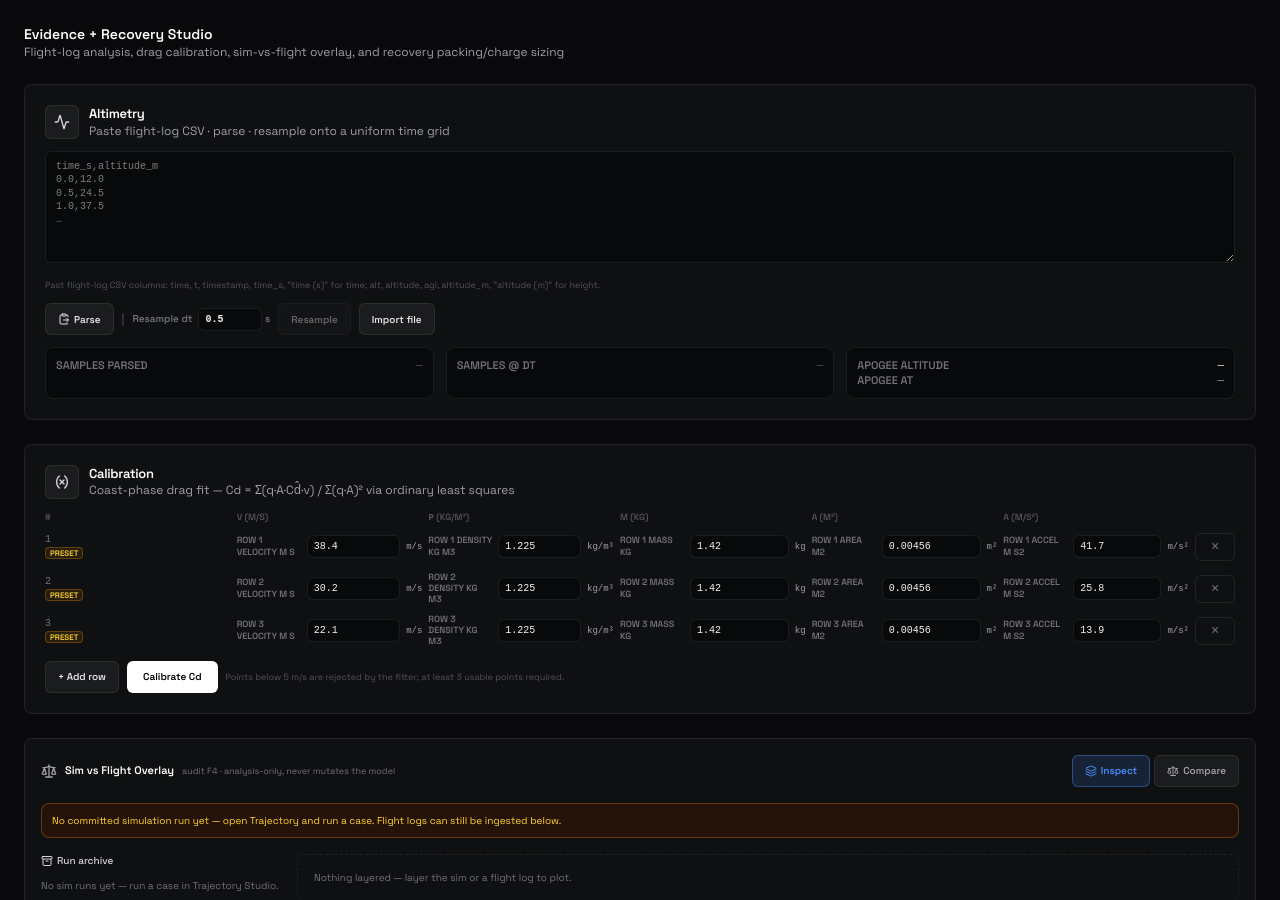
Scenario: EvidenceStudio › surfaces the fitter error when fewer than 3 usable points remain
Replace the text in the number field named "Row 2 velocity m s" with "1.0" at (353, 589), box [307,577,400,600]
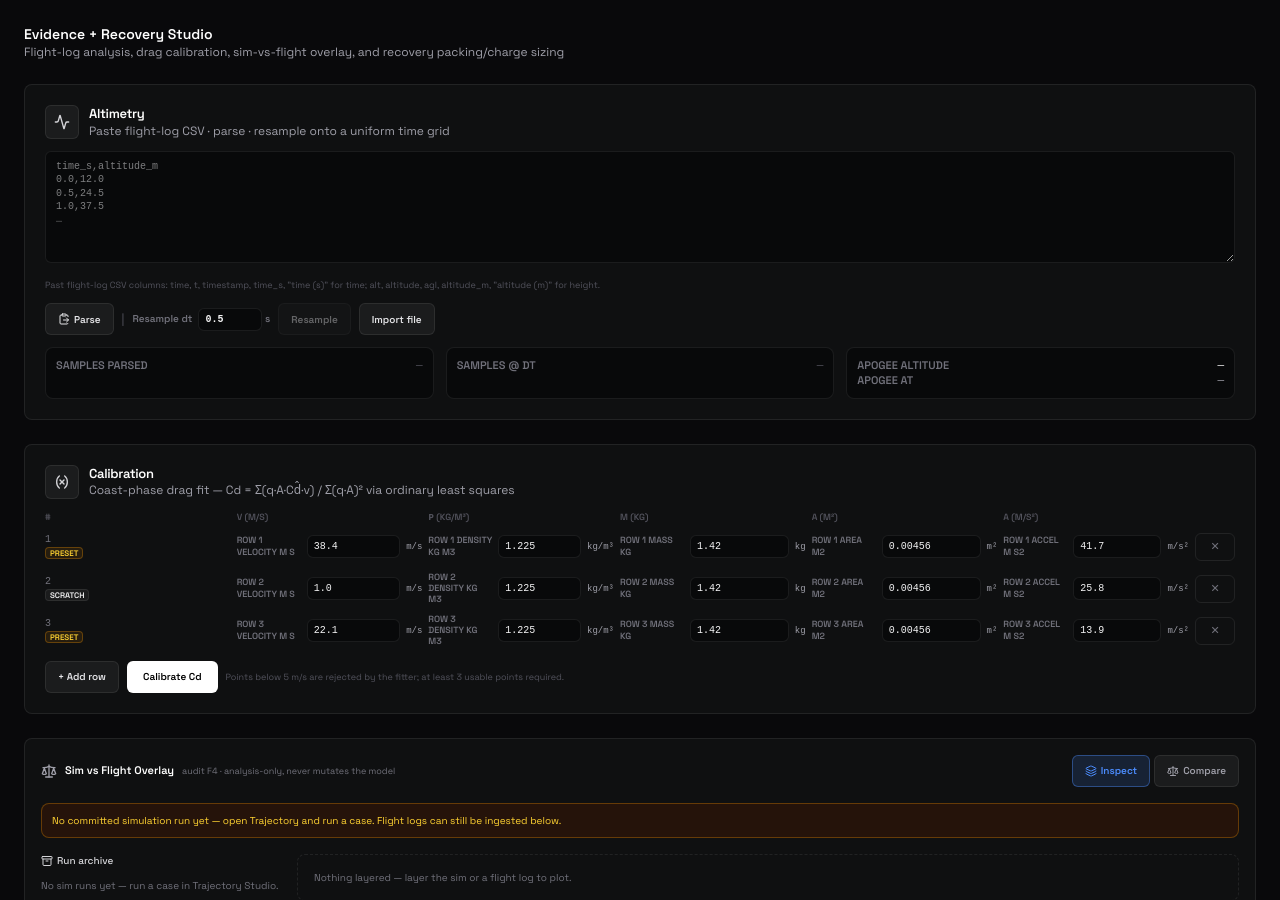
Replace the text in the number field named "Row 1 velocity m s" with "1.0" at (353, 547), box [307,535,400,558]
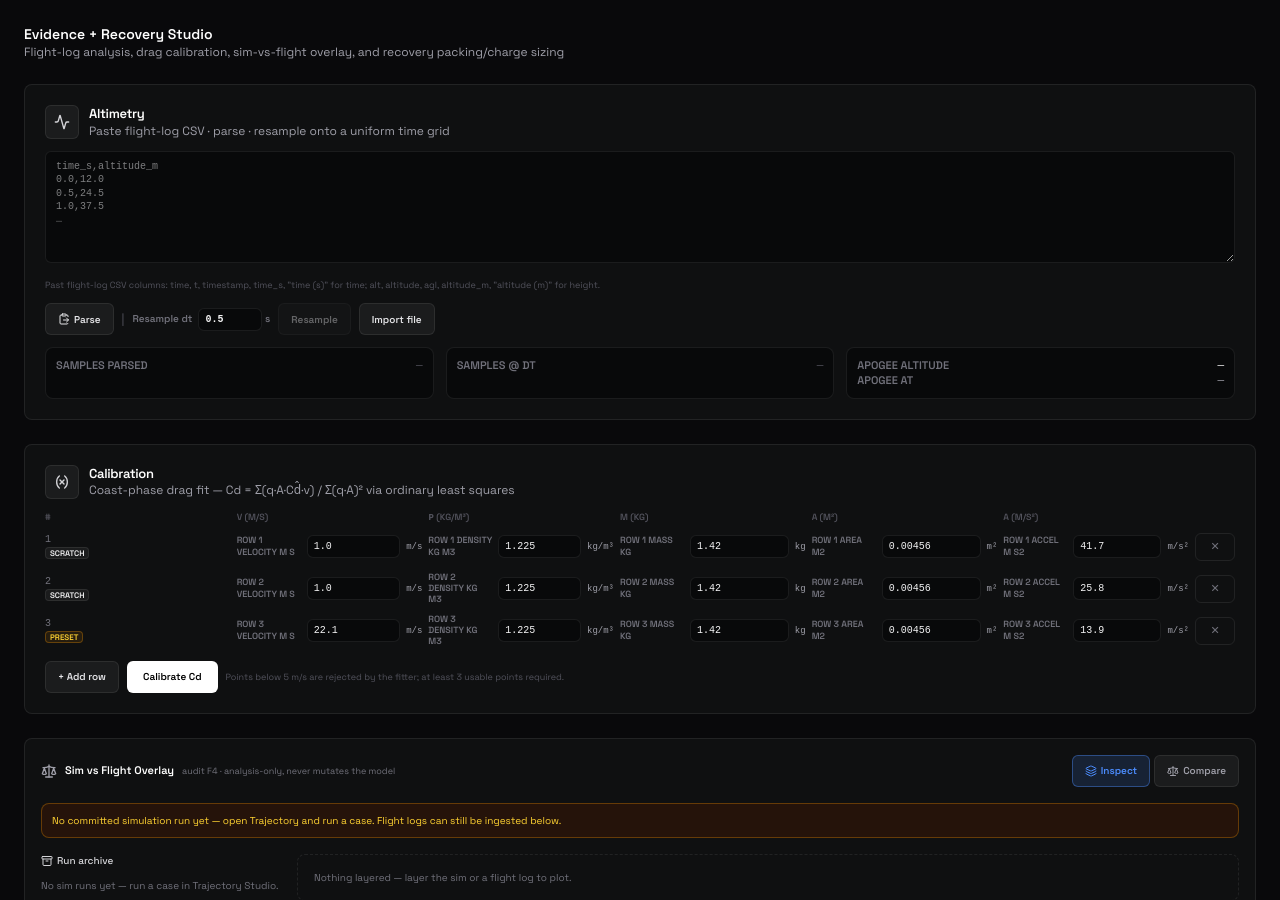
Replace the text in the number field named "Row 3 velocity m s" with "1.0" at (353, 631), box [307,619,400,642]
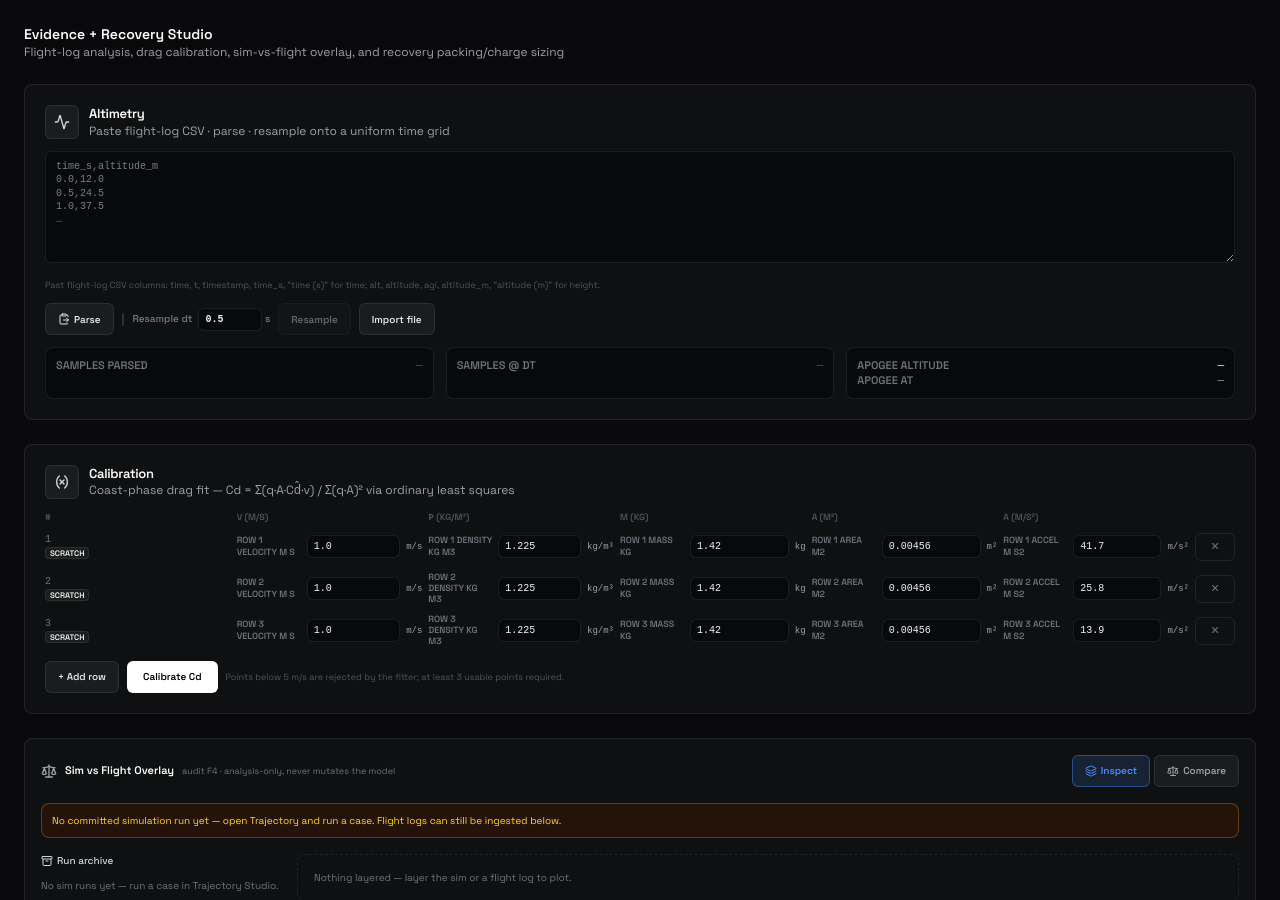
Click the button "Calibrate Cd" at (172, 677), box [127,661,218,693]
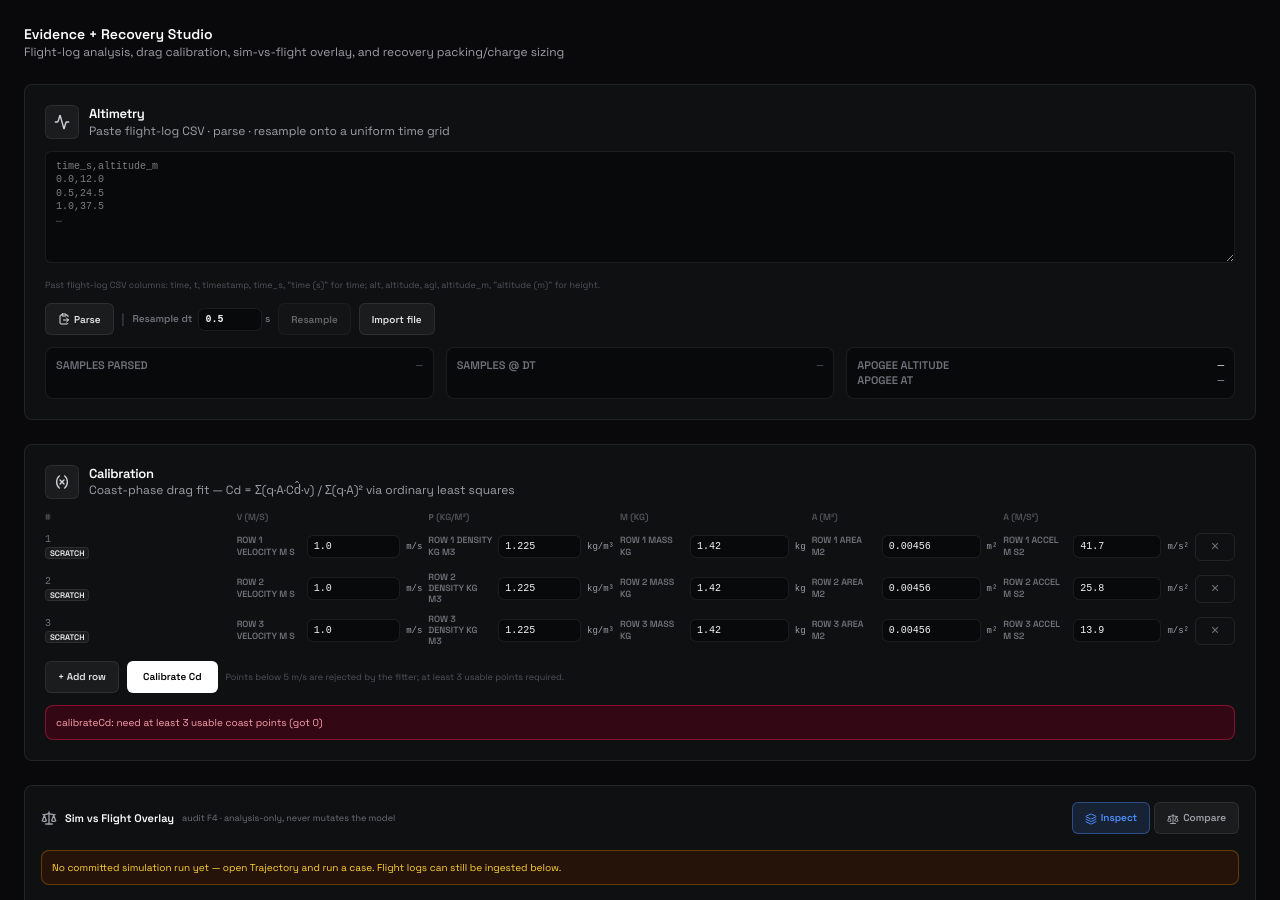
Expected: the text "calibrateCd: need at least 3 usable coast points (got 0)" is shown, [45,705,1235,740]
